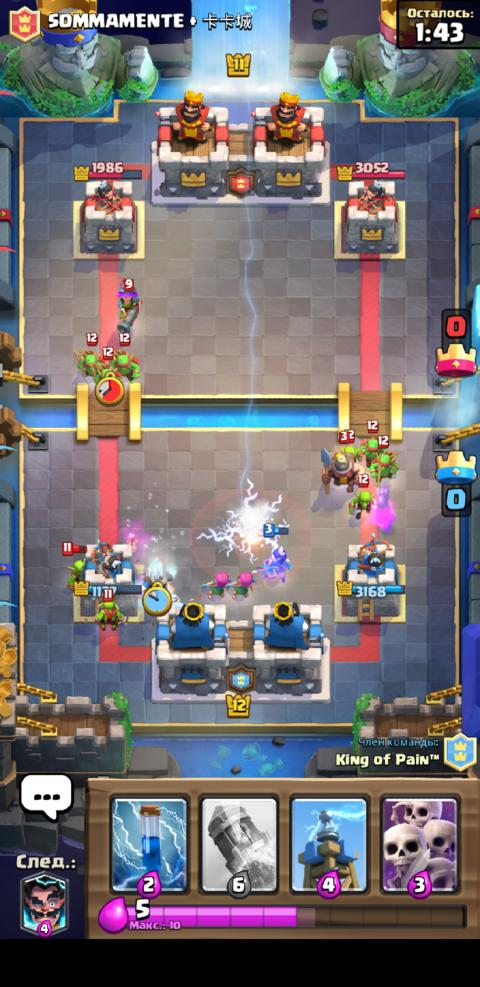ally_archer: (200, 570, 231, 599), (228, 571, 257, 598)
ally_ice_wizard: (140, 555, 176, 595)
ally_princess: (250, 522, 292, 583)
enemy_goblin: (92, 587, 127, 631), (347, 473, 378, 519), (59, 540, 86, 589), (340, 428, 357, 459)
enemy_musketeer: (114, 276, 143, 333)
enemy_spear_goblin: (107, 332, 140, 383), (368, 434, 399, 486), (72, 331, 103, 377), (91, 345, 121, 388), (358, 419, 385, 465)
